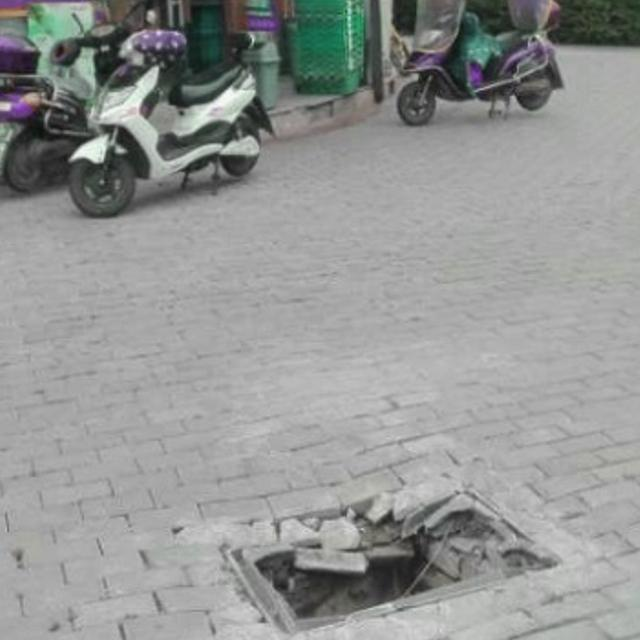broke: (220, 473, 565, 640)
